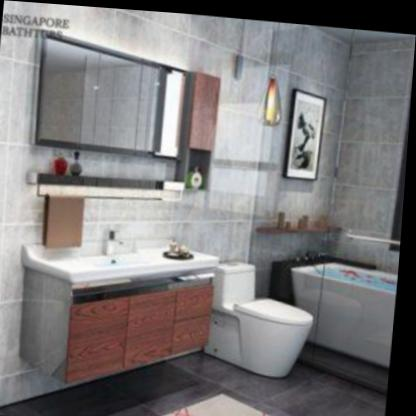Cabinet: (15, 239, 219, 392)
